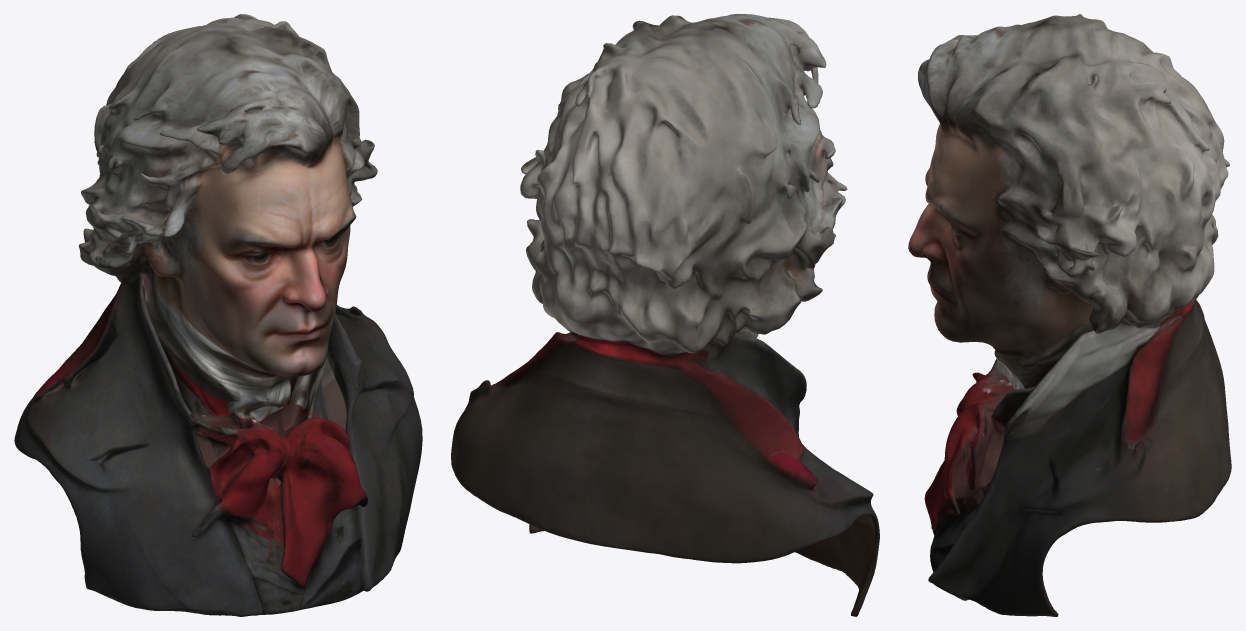
Rendered from humano.glb.
3 renders of one model, left to right at view 1: azimuth 30°, elevation 25°; view 2: azimuth 150°, elevation 25°; view 3: azimuth 270°, elevation 25°, orthographic. The views are drawn at different scales.
Bounding box in the file's own units: 1.43 × 1.99 × 1.11.
1 material, 1 textured.
